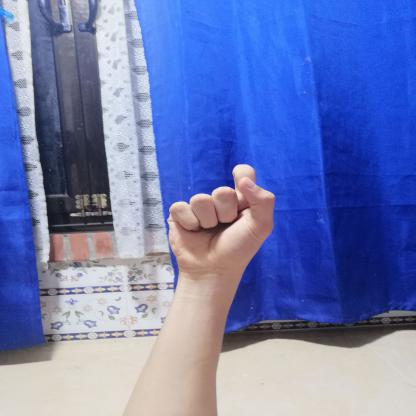FAA: (152, 154, 292, 283)
